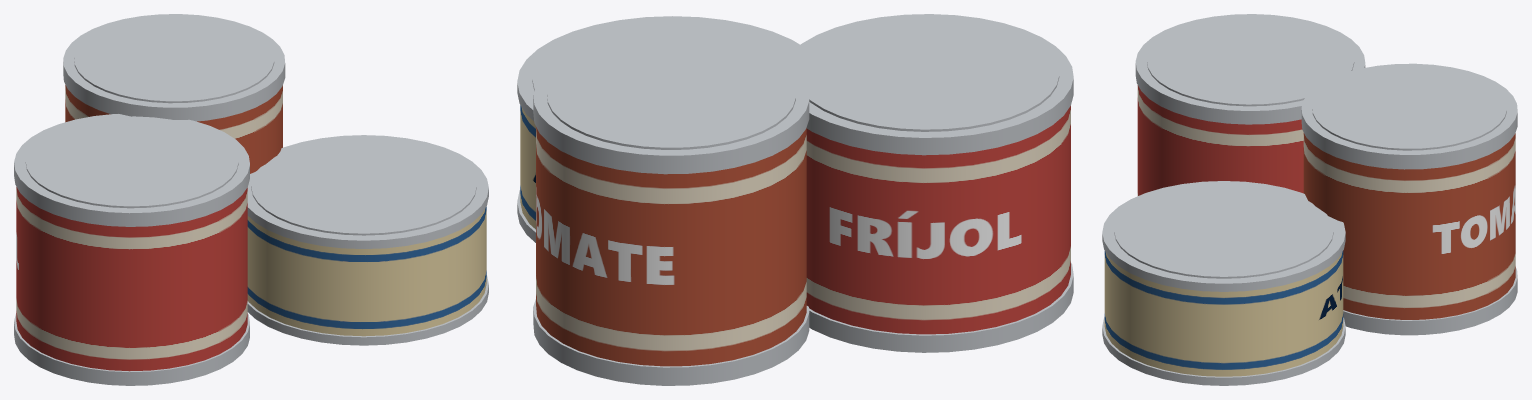
The model's file is alimentos_enlatados.fbx.
3 views of the same model, side by side, from view 1: azimuth 30°, elevation 25°; view 2: azimuth 150°, elevation 25°; view 3: azimuth 270°, elevation 25° (orthographic). The views are drawn at different scales.
Visible parts, largest first — view 1: enlatados_etiqueta, enlatados_etiqueta_02, enlatados_c9cdd2_06, enlatados_c9cdd2_03, enlatados_c9cdd2_09, enlatados_c9cdd2, enlatados_c9cdd2_07, enlatados_c9cdd2_04, enlatados_c9cdd2_02, enlatados_etiqueta_03, enlatados_c9cdd2_05; view 2: enlatados_etiqueta_03, enlatados_etiqueta, enlatados_c9cdd2_03, enlatados_c9cdd2_09, enlatados_c9cdd2_07, enlatados_c9cdd2, enlatados_c9cdd2_08, enlatados_c9cdd2_02, enlatados_c9cdd2_06, enlatados_c9cdd2_04, enlatados_etiqueta_02; view 3: enlatados_etiqueta_03, enlatados_etiqueta_02, enlatados_c9cdd2_06, enlatados_c9cdd2_03, enlatados_c9cdd2_09, enlatados_etiqueta, enlatados_c9cdd2_07, enlatados_c9cdd2_04, enlatados_c9cdd2, enlatados_c9cdd2_08, enlatados_c9cdd2_05.
Boxes of the visible parts, bbox=[...] form: enlatados_etiqueta: bbox=[16, 187, 247, 371]; enlatados_etiqueta_02: bbox=[247, 206, 486, 336]; enlatados_c9cdd2_06: bbox=[251, 138, 476, 235]; enlatados_c9cdd2_03: bbox=[25, 116, 238, 208]; enlatados_c9cdd2_09: bbox=[74, 16, 274, 103]; enlatados_c9cdd2: bbox=[14, 114, 249, 226]; enlatados_c9cdd2_07: bbox=[63, 14, 285, 121]; enlatados_c9cdd2_04: bbox=[247, 135, 488, 248]; enlatados_c9cdd2_02: bbox=[14, 313, 249, 385]; enlatados_etiqueta_03: bbox=[65, 85, 282, 173]; enlatados_c9cdd2_05: bbox=[247, 275, 488, 345]; enlatados_etiqueta_03: bbox=[536, 127, 806, 366]; enlatados_etiqueta: bbox=[806, 106, 1070, 334]; enlatados_c9cdd2_03: bbox=[795, 17, 1059, 131]; enlatados_c9cdd2_09: bbox=[547, 42, 795, 149]; enlatados_c9cdd2_07: bbox=[533, 39, 809, 174]; enlatados_c9cdd2: bbox=[783, 14, 1073, 155]; enlatados_c9cdd2_08: bbox=[533, 299, 809, 385]; enlatados_c9cdd2_02: bbox=[809, 263, 1073, 352]; enlatados_c9cdd2_06: bbox=[532, 20, 793, 90]; enlatados_c9cdd2_04: bbox=[517, 16, 799, 120]; enlatados_etiqueta_02: bbox=[520, 105, 535, 229]; enlatados_etiqueta_03: bbox=[1303, 133, 1515, 319]; enlatados_etiqueta_02: bbox=[1104, 251, 1343, 376]; enlatados_c9cdd2_06: bbox=[1114, 184, 1333, 278]; enlatados_c9cdd2_03: bbox=[1147, 17, 1354, 106]; enlatados_c9cdd2_09: bbox=[1312, 66, 1506, 150]; enlatados_etiqueta: bbox=[1137, 85, 1303, 195]; enlatados_c9cdd2_07: bbox=[1301, 63, 1517, 169]; enlatados_c9cdd2_04: bbox=[1102, 181, 1345, 291]; enlatados_c9cdd2: bbox=[1135, 14, 1365, 124]; enlatados_c9cdd2_08: bbox=[1343, 267, 1517, 335]; enlatados_c9cdd2_05: bbox=[1102, 317, 1345, 385].
Bounding box in the file's own units: 1.57 × 0.6529 × 1.35.
4 materials, 3 textured.
